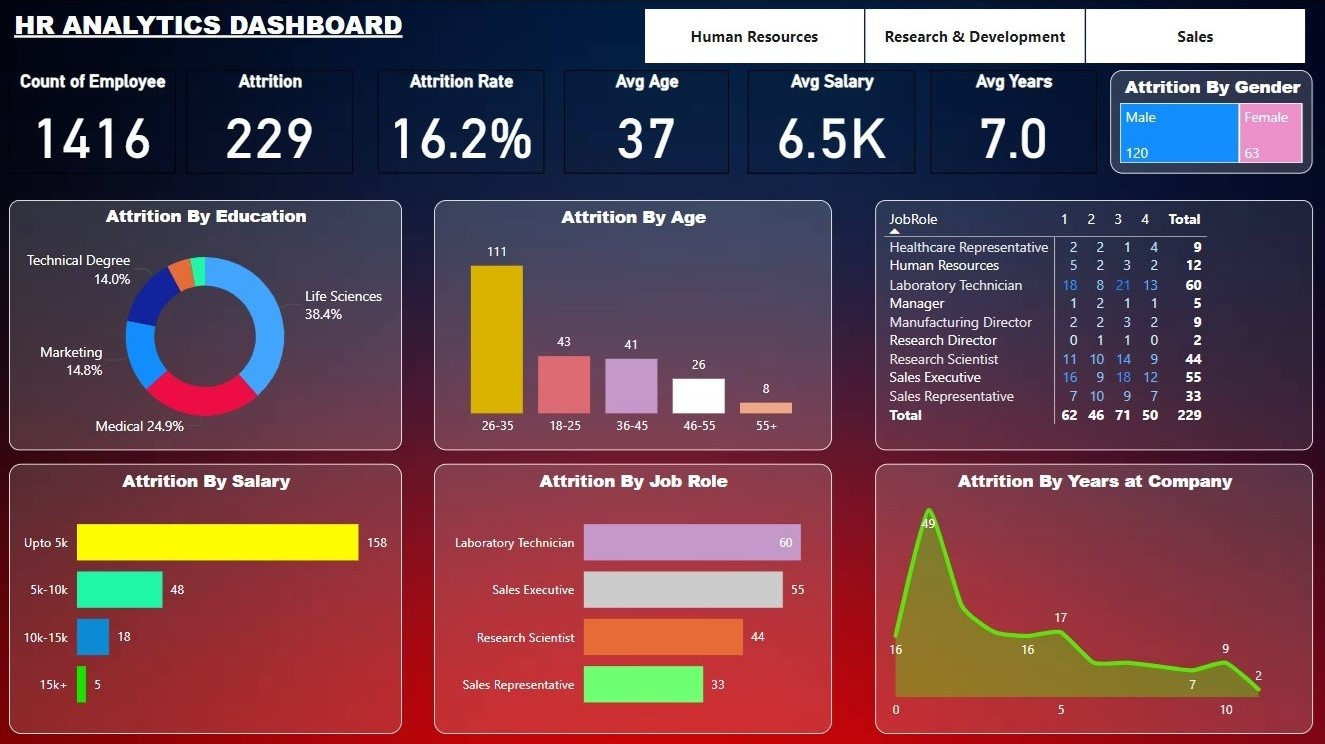

The dashboard page shown, as its layout file describes it:
{"tool":"powerbi","page":{"name":"Page 1","canvas":[1280,720],"ordinal":0},"visuals":[{"type":"card","title":"Count of Employee","fields":{"Values":["CountNonNull(HR_Analytics.EmpID)"]},"box":[9.7,67.6,160.5,100.1],"z":0},{"type":"card","title":"Attrition","fields":{"Values":["Sum(HR_Analytics.AttritionCount)"]},"box":[181,67.6,160.5,100.1],"z":1000},{"type":"card","title":"Attrition Rate","fields":{"Values":["HR_Analytics.AttritionRate"]},"box":[365.6,67.6,160.5,100.1],"z":2000},{"type":"card","title":"Avg Age","fields":{"Values":["Avg(HR_Analytics.Age)"]},"box":[545.3,67.6,159.3,100.1],"z":3000},{"type":"card","title":"Avg Salary","fields":{"Values":["Avg(HR_Analytics.MonthlyIncome)"]},"box":[722.7,67.6,161.7,100.1],"z":4000},{"type":"card","title":"Avg Years","fields":{"Values":["Avg(HR_Analytics.YearsAtCompany)"]},"box":[898.8,67.6,160.5,100.1],"z":5000},{"type":"donutChart","title":"Attrition By Education","fields":{"Category":["HR_Analytics.EducationField"],"Y":["Sum(HR_Analytics.AttritionCount)"]},"box":[9.7,193,378.8,241.3],"z":6000},{"type":"columnChart","title":"Attrition By Age","fields":{"Category":["HR_Analytics.AgeGroup"],"Y":["Sum(HR_Analytics.AttritionCount)"]},"box":[419.8,193,383.6,241.3],"z":7000},{"type":"pivotTable","fields":{"Rows":["HR_Analytics.JobRole"],"Columns":["HR_Analytics.JobSatisfaction"],"Values":["Sum(HR_Analytics.AttritionCount)"]},"box":[845.7,193,422.3,241.3],"z":8000},{"type":"clusteredBarChart","title":"Attrition By Salary","fields":{"Category":["HR_Analytics.SalarySlab"],"Y":["Sum(HR_Analytics.AttritionCount)"]},"box":[9.7,447.6,378.8,260.6],"z":9000},{"type":"clusteredBarChart","title":"Attrition By Job Role","fields":{"Category":["HR_Analytics.JobRole"],"Y":["Sum(HR_Analytics.AttritionCount)"]},"box":[419.8,447.6,383.6,260.6],"z":10000},{"type":"areaChart","title":"Attrition By Years at Company","fields":{"Category":["HR_Analytics.YearsAtCompany"],"Y":["Sum(HR_Analytics.AttritionCount)"]},"box":[845.7,447.6,422.3,260.6],"z":11000},{"type":"treemap","title":"Attrition By Gender","fields":{"Group":["HR_Analytics.Gender"],"Values":["Sum(HR_Analytics.AttritionCount)"]},"box":[1072.5,67.6,195.4,100.1],"z":12000},{"type":"slicer","fields":{"Values":["HR_Analytics.Department"]},"box":[599.6,0,680.4,67.6],"z":13000},{"type":"textbox","box":[9.7,1.2,456,44.6],"z":14000}]}

Visuals, with their boxes in screenshot pixels (x1, y1, x2, y2), scaled from the page's 1280x720 canvas onto the 1325x744 screenshot:
"Count of Employee" card: box(10, 70, 176, 173)
"Attrition" card: box(187, 70, 354, 173)
"Attrition Rate" card: box(378, 70, 545, 173)
"Avg Age" card: box(564, 70, 729, 173)
"Avg Salary" card: box(748, 70, 915, 173)
"Avg Years" card: box(930, 70, 1097, 173)
"Attrition By Education" donutChart: box(10, 199, 402, 449)
"Attrition By Age" columnChart: box(435, 199, 832, 449)
pivotTable - HR_Analytics.JobRole x HR_Analytics.JobSatisfaction: box(875, 199, 1313, 449)
"Attrition By Salary" clusteredBarChart: box(10, 463, 402, 732)
"Attrition By Job Role" clusteredBarChart: box(435, 463, 832, 732)
"Attrition By Years at Company" areaChart: box(875, 463, 1313, 732)
"Attrition By Gender" treemap: box(1110, 70, 1312, 173)
slicer - HR_Analytics.Department: box(621, 0, 1324, 70)
textbox: box(10, 1, 482, 47)
